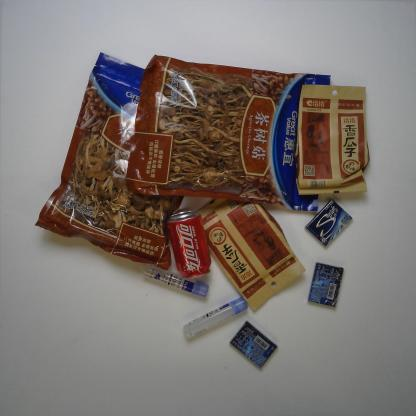Dried Food: (32, 51, 185, 272), (124, 54, 332, 214), (194, 196, 308, 312), (293, 83, 372, 197)
Drink: (166, 209, 214, 279)
Gum: (304, 198, 353, 247), (229, 320, 278, 369), (307, 261, 344, 308)
Stationery: (182, 296, 249, 340), (143, 264, 209, 299)
